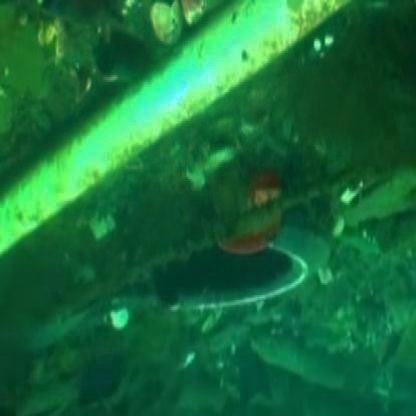rod: (4, 17, 390, 164)
tire: (114, 177, 326, 353)
